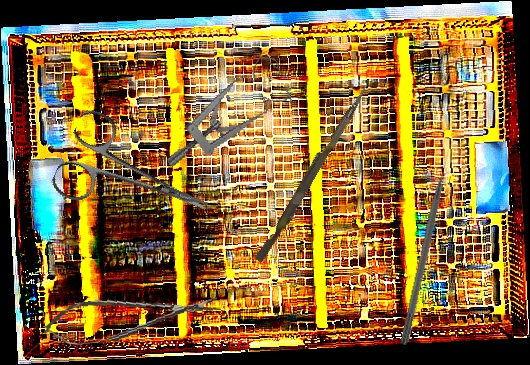Iris Scissors: (48, 106, 224, 251)
Micro Scissor: (41, 287, 223, 349)
Pusher: (254, 80, 370, 266), (399, 148, 455, 347)
Speculum: (147, 51, 302, 169)
